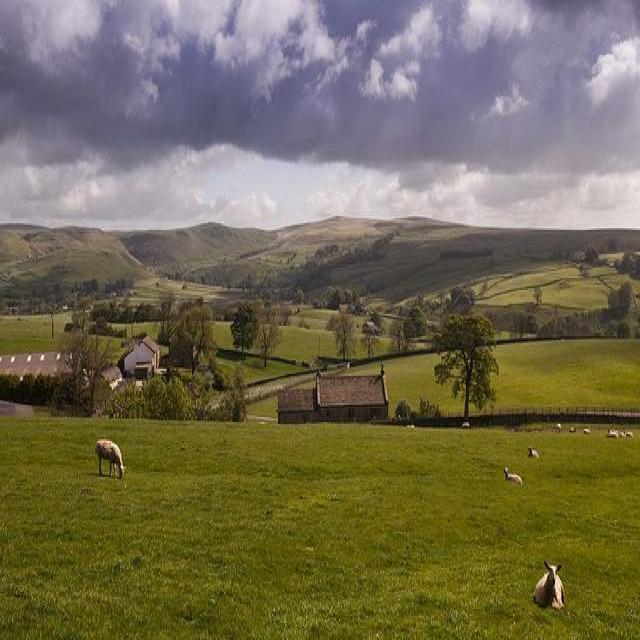Sheep: (531, 554, 567, 611)
